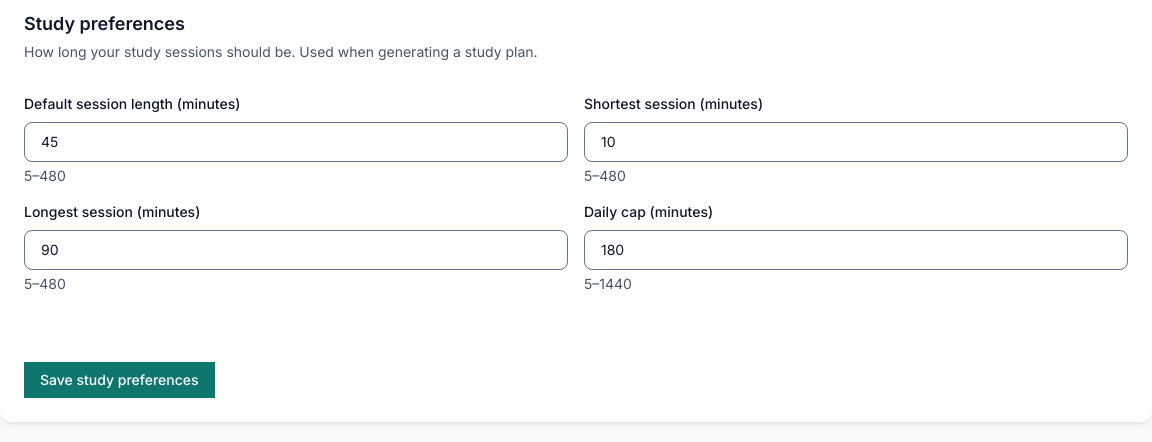
Test: StudyPreferencesForm validation › blocks submit on a broken cross-field combination (min > sessionLength) naming minSessionMinutes
Replace the text in the number field labelled "Shortest session (minutes)" with "100". click: (856, 142)
box: [584, 122, 1128, 162]
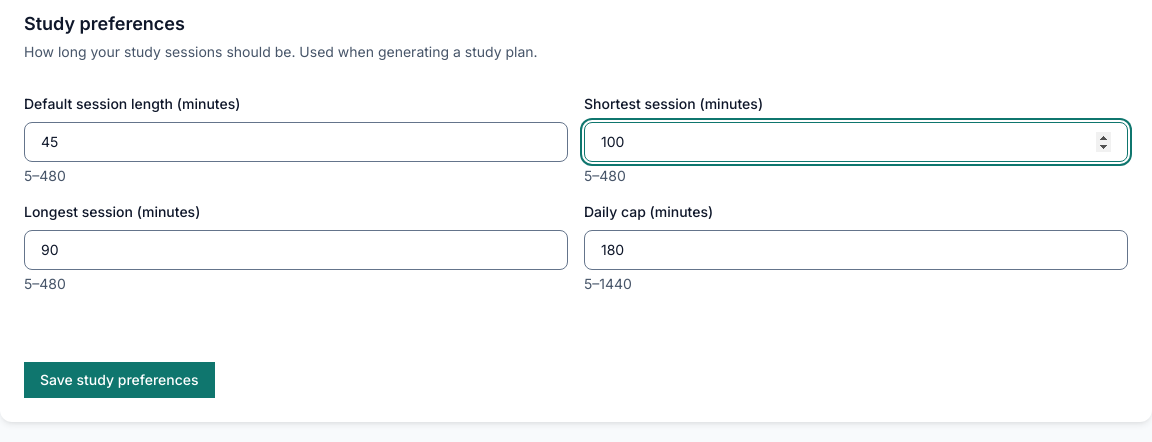
Click the button "Save study preferences". click: (119, 380)
box: [24, 362, 215, 398]
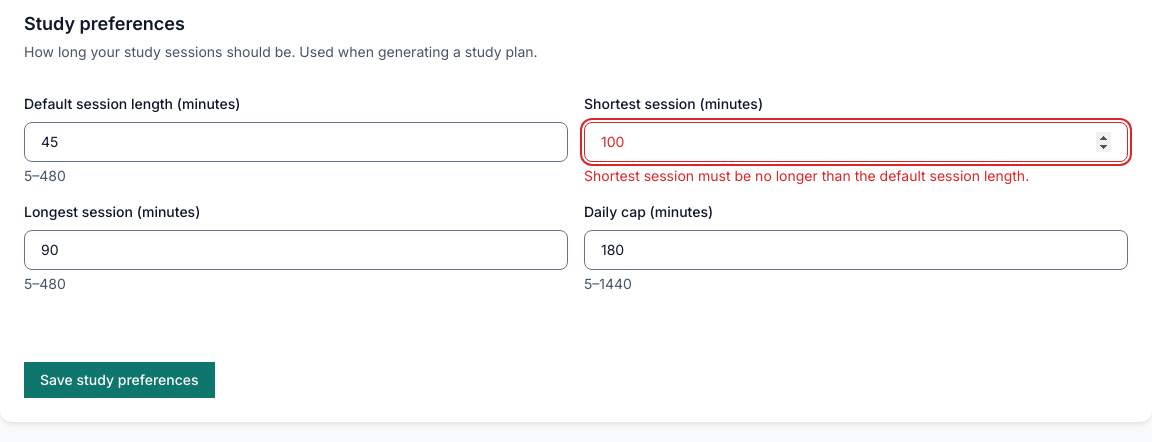
Result: the text "Shortest session must be no longer than the default session length." is shown at [584, 167, 1029, 184]
